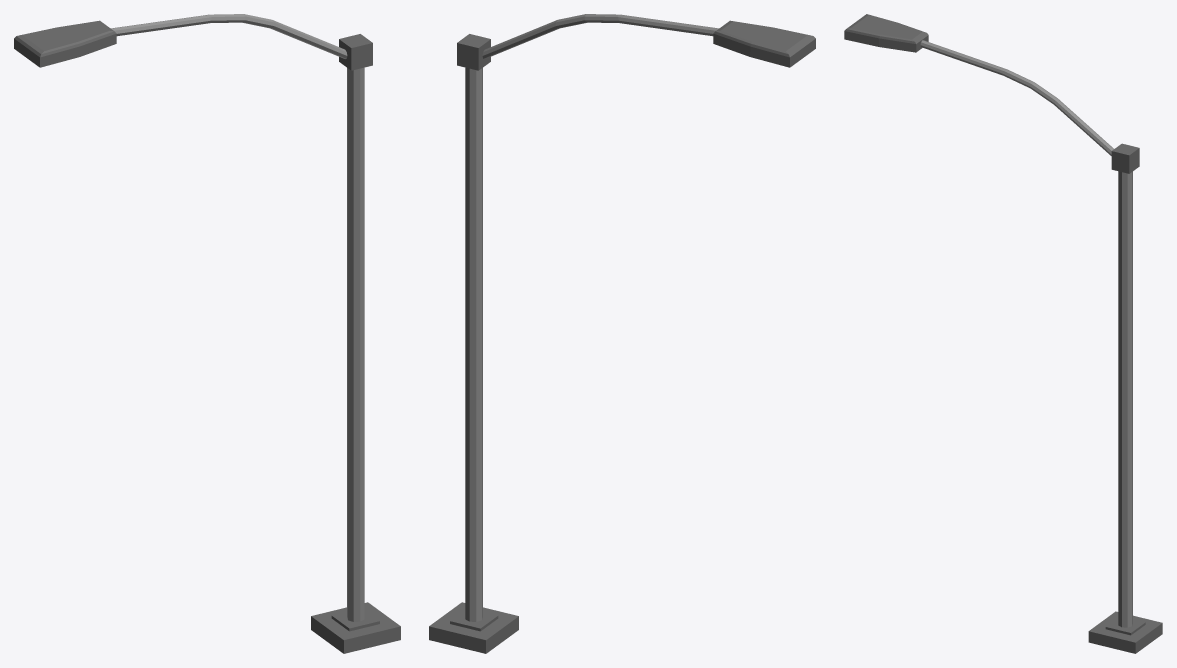
File: light_pole.glb
3 renders of one model, left to right at view 1: azimuth 30°, elevation 25°; view 2: azimuth 150°, elevation 25°; view 3: azimuth 330°, elevation 25°, orthographic. The views are drawn at different scales.
Visible parts, largest first — view 1: Light; view 2: Light; view 3: Light.
Part boxes in pixels (bbox=[...]): Light: bbox=[14, 14, 400, 653]; Light: bbox=[429, 14, 815, 653]; Light: bbox=[844, 14, 1162, 653].
Size of the model in its own units: 2.6 by 4.67 by 0.4156.
1 material, 1 textured.
